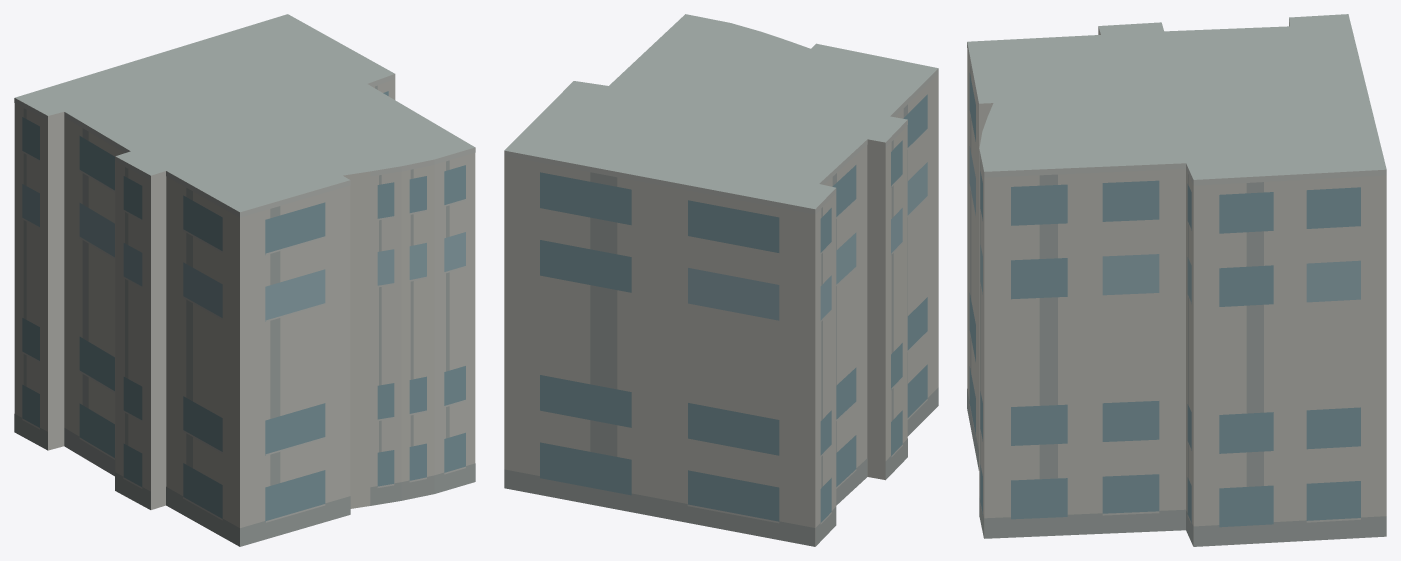
Rendered from survey-upis-32904001.glb.
The picture shows the model from 3 angles, left to right: view 1: azimuth 30°, elevation 25°; view 2: azimuth 150°, elevation 25°; view 3: azimuth 270°, elevation 25°; orthographic projection. The views are drawn at different scales.
Visible parts, largest first — view 1: survey-upis-32904001.tmp; view 2: survey-upis-32904001.tmp; view 3: survey-upis-32904001.tmp.
Part boxes in pixels (<box>): survey-upis-32904001.tmp: <box>14,14,475,546</box>; survey-upis-32904001.tmp: <box>504,14,938,546</box>; survey-upis-32904001.tmp: <box>967,14,1386,546</box>.
Size of the model in its own units: 14.8 by 15.25 by 15.81.
